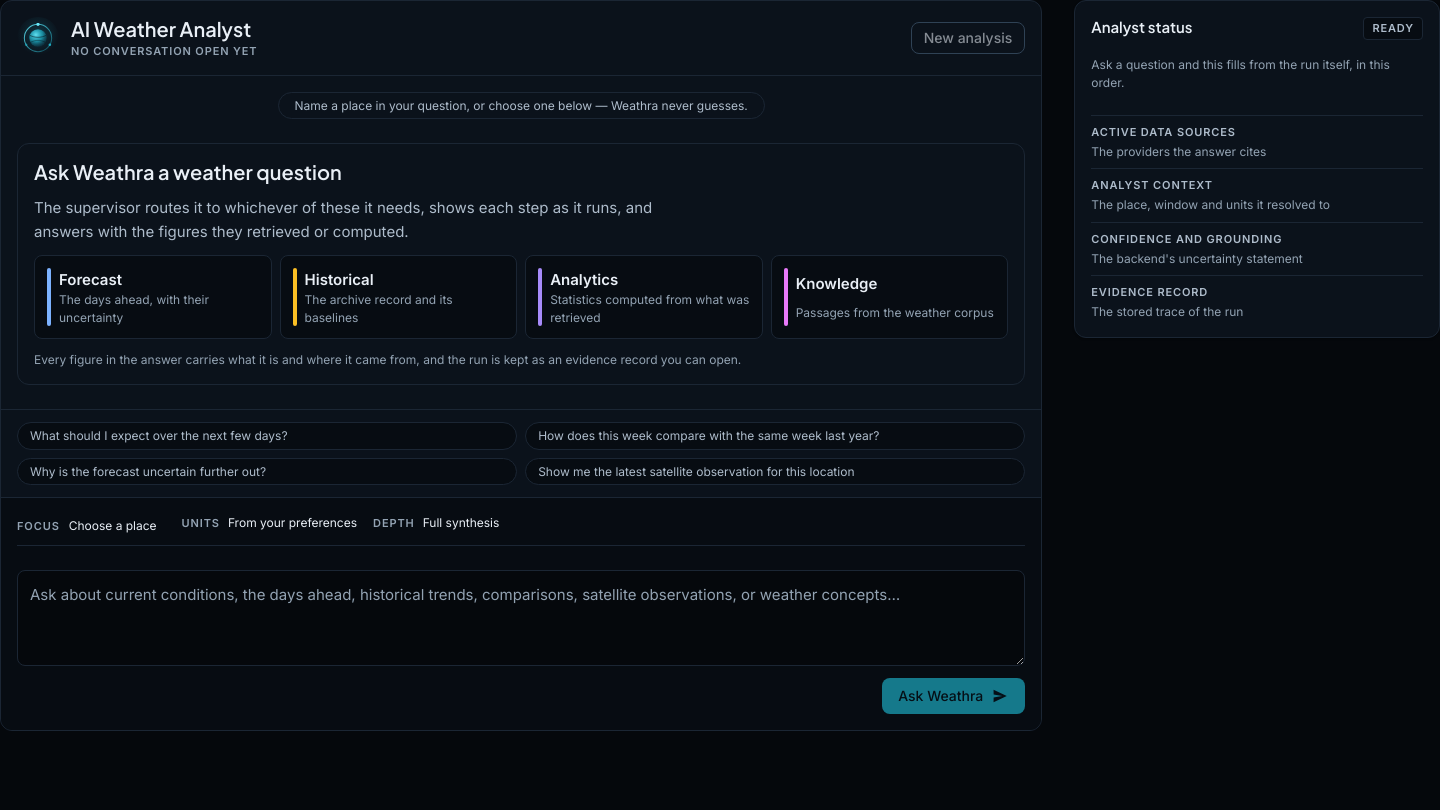
when a run does not complete › keeps what arrived, says the run did not complete, and offers a retry
Replace the text in the text box named "Your weather question" with "What should I expect?" at (521, 618), box [17, 570, 1025, 666]
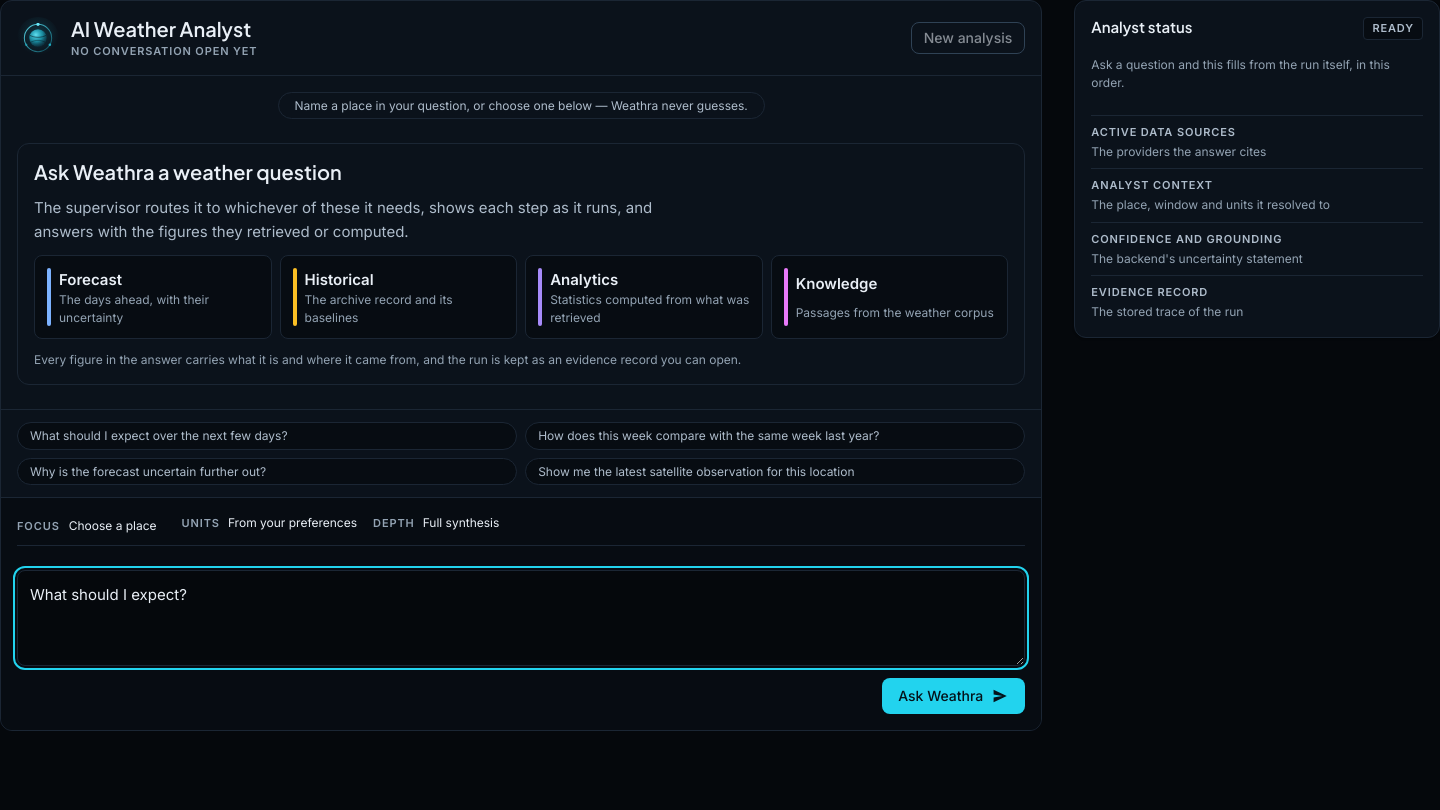
Click the button "Ask Weathra".
click(954, 696)  # box [882, 678, 1025, 714]
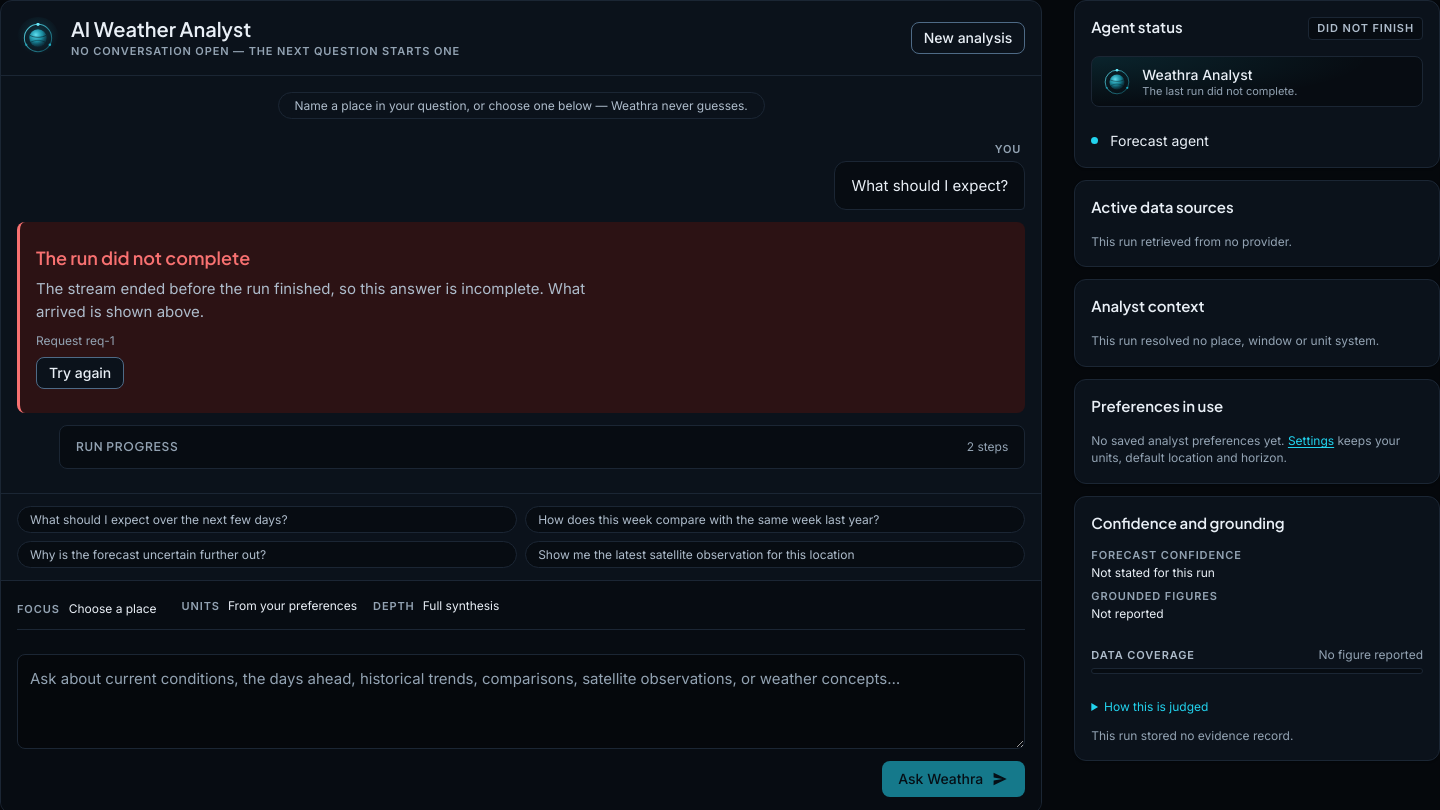
Check: the text "The run did not complete" is shown, box [36, 246, 250, 269]
Check: the text "What arrived is shown above" is shown, box [36, 279, 585, 322]
Click the button "Try again".
click(80, 373)  # box [36, 357, 124, 389]
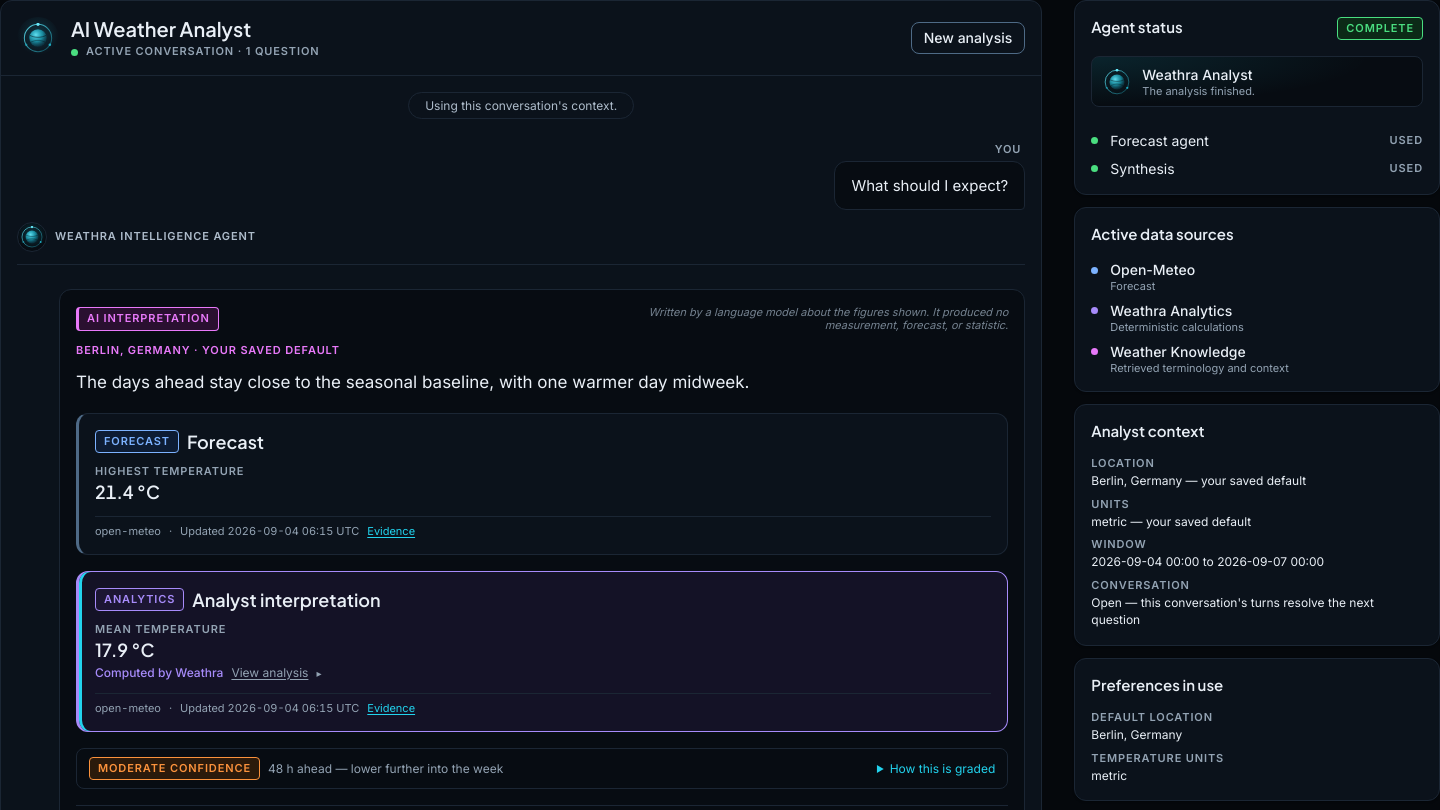
Check: the text "What should I expect?" is shown, box [852, 174, 1008, 197]
Check: the element "AI INTERPRETATION" is shown, box [76, 306, 1008, 397]
